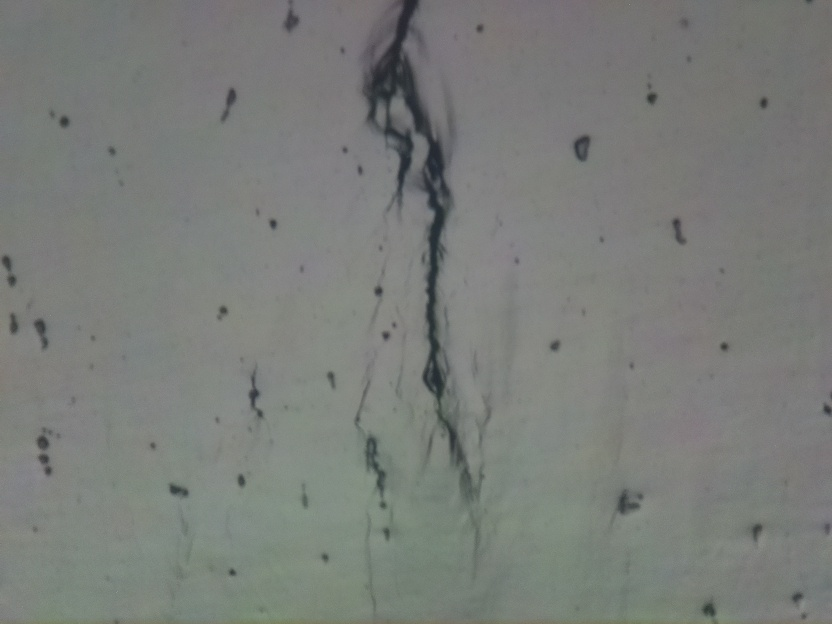crack: (366, 0, 491, 491), (343, 391, 389, 506)
